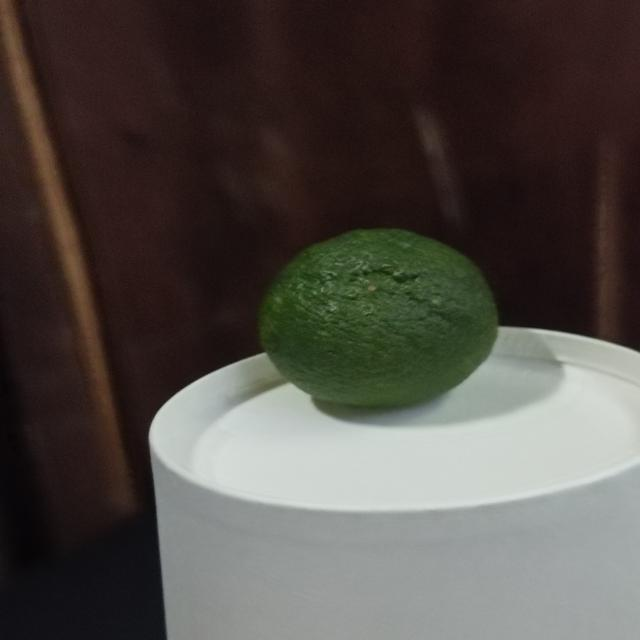heathy: (256, 222, 509, 412)
